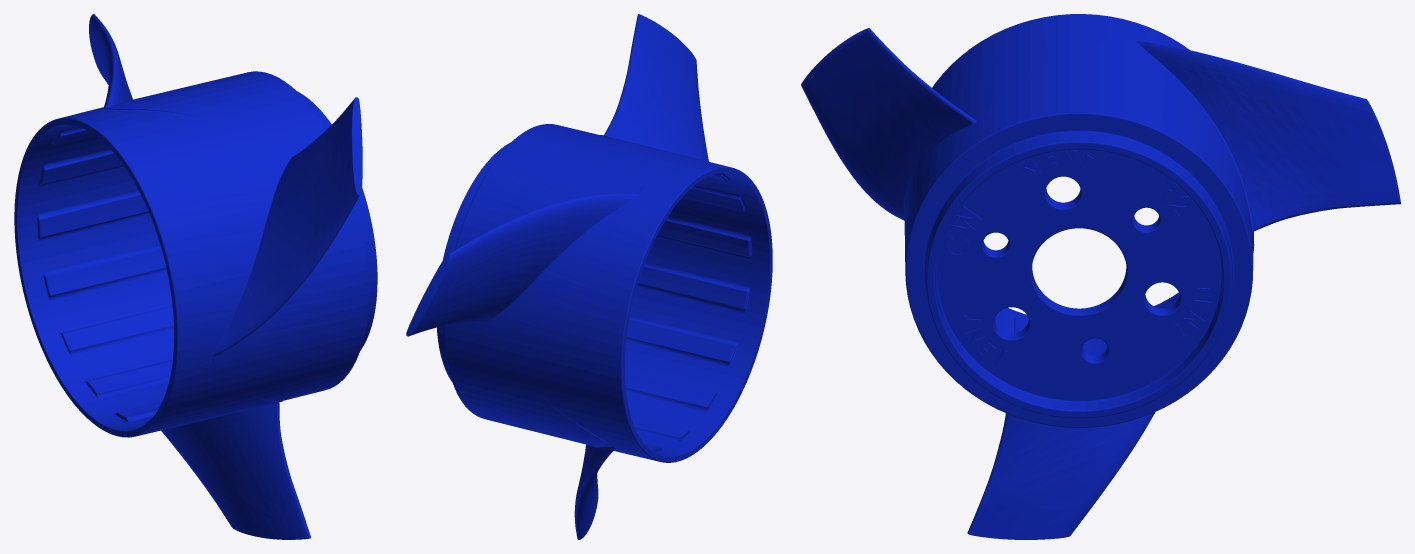
File: left_propeller_link_visual.obj
3 views of the same model, side by side, from view 1: azimuth 30°, elevation 25°; view 2: azimuth 150°, elevation 25°; view 3: azimuth 270°, elevation 25° (orthographic). The views are drawn at different scales.
Visible parts, largest first — view 1: left_propeller_link_visual.001; view 2: left_propeller_link_visual.001; view 3: left_propeller_link_visual.001.
Boxes of the visible parts, left/top/right/bottom form: left_propeller_link_visual.001: left=14, top=14, right=377, bottom=539; left_propeller_link_visual.001: left=406, top=14, right=772, bottom=539; left_propeller_link_visual.001: left=801, top=14, right=1400, bottom=539.
Size of the model in its own units: 0.0453 by 0.1011 by 0.1052.
